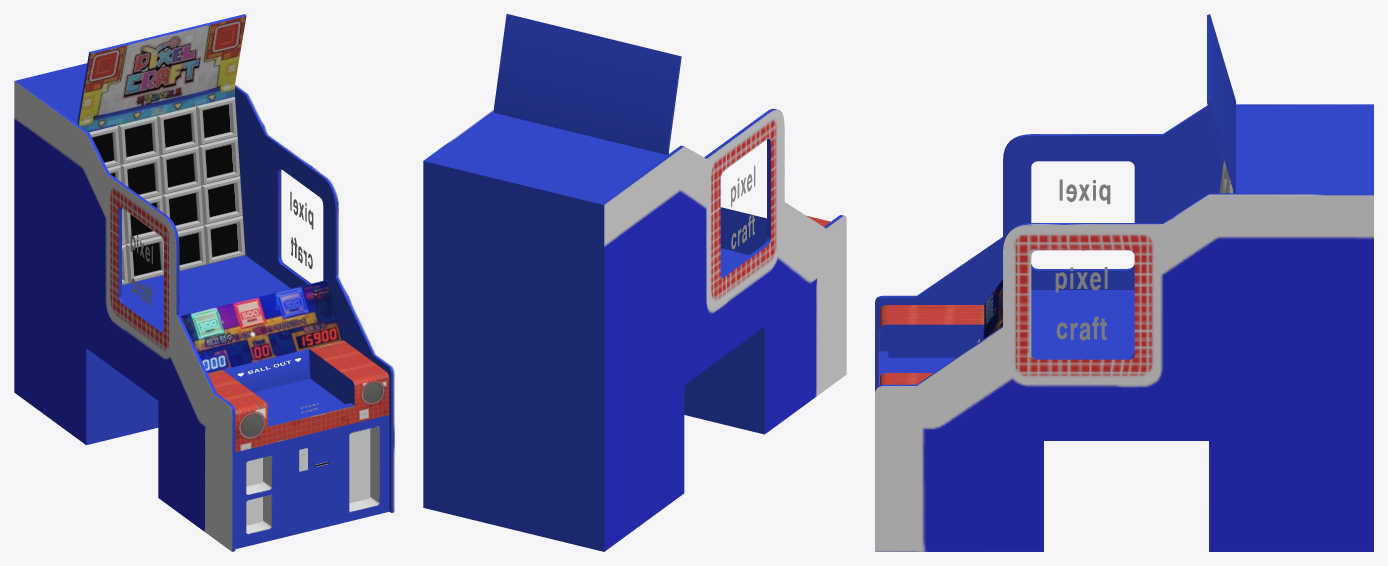
File: LC_3115_gameC_LOD3.FBX
3 renders of one model, left to right at view 1: azimuth 30°, elevation 25°; view 2: azimuth 150°, elevation 25°; view 3: azimuth 270°, elevation 25°, orthographic. The views are drawn at different scales.
Parts seen in each view (by area): view 1: LC_3115_gameC_LOD3; view 2: LC_3115_gameC_LOD3; view 3: LC_3115_gameC_LOD3.
Part boxes in pixels (bbox=[...]): LC_3115_gameC_LOD3: bbox=[14, 14, 394, 551]; LC_3115_gameC_LOD3: bbox=[423, 14, 846, 551]; LC_3115_gameC_LOD3: bbox=[875, 14, 1373, 551].
Bounding box in the file's own units: 104 × 240 × 242.
1 material, 1 textured.
